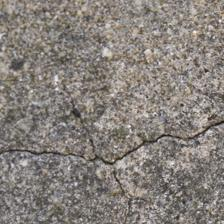Crack: (1, 59, 222, 111)
